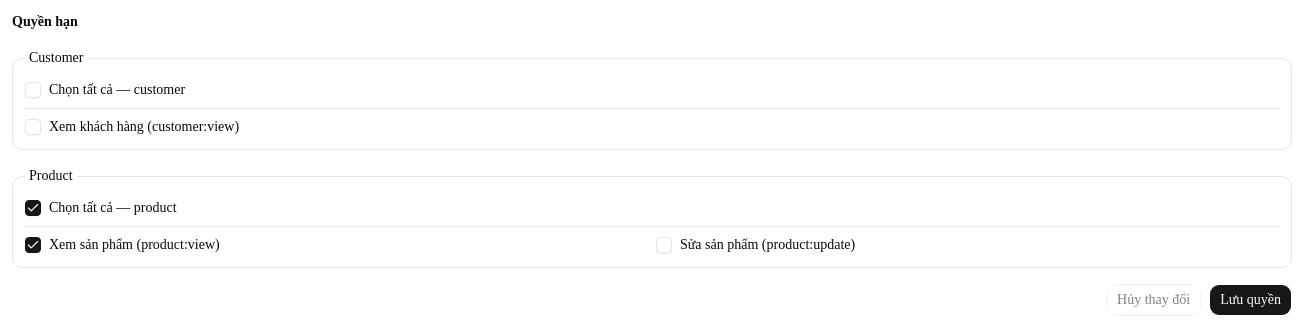
Test: PermissionMatrix (T052.03C §6) › clicking group select-all selects every permission in that group
The width and height of the screenshot is (1304, 333).
Click the 3rd checkbox named "Chọn tất cả — product" at (33, 208), box [25,200,41,216]
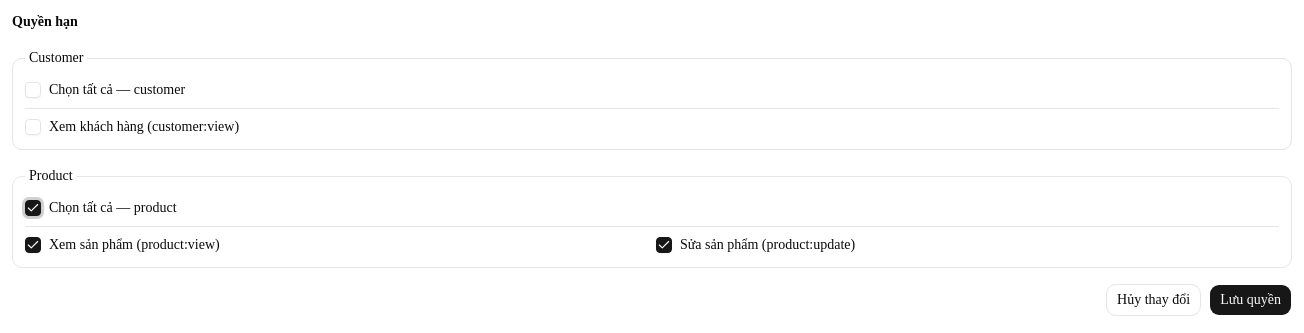
expect the checkbox named "product:view" next to "Xem sản phẩm (product:view)" is checked: met, box [25,237,41,253]
expect the checkbox named "product:update" next to "Sửa sản phẩm (product:update)" is checked: met, box [656,237,672,253]
